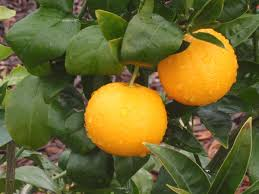orange: (153, 27, 241, 107), (80, 82, 169, 156)
